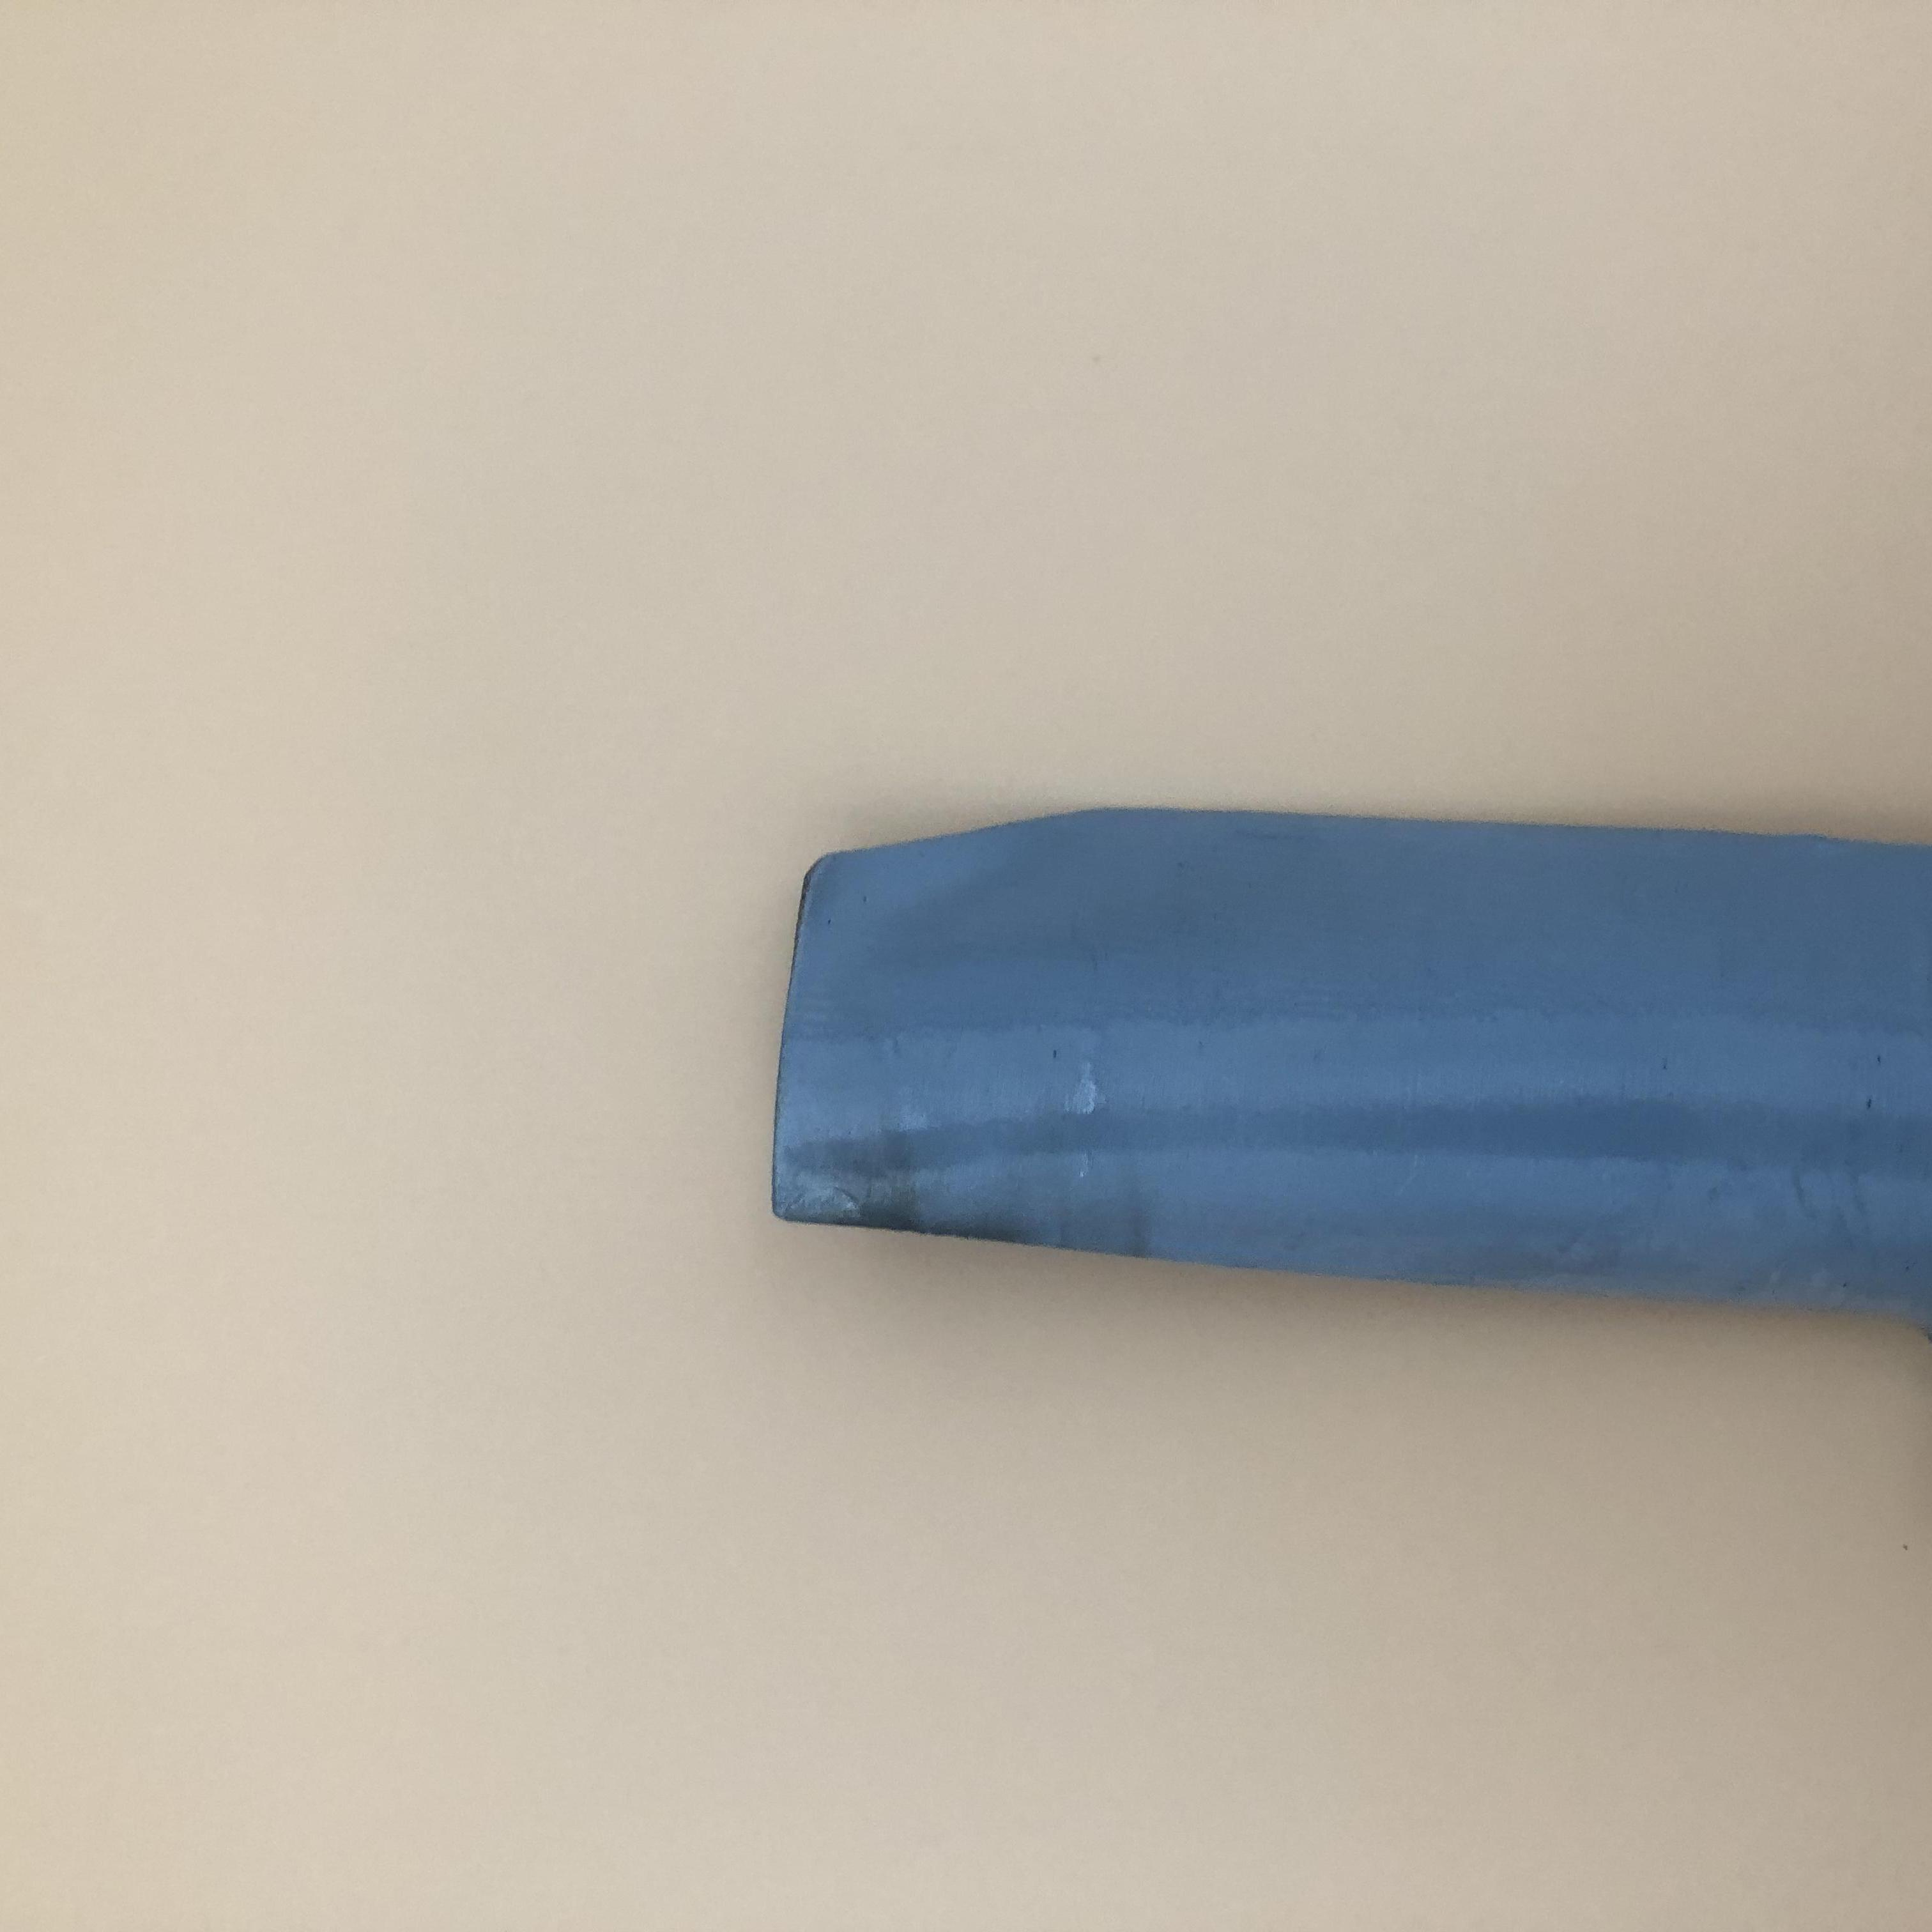ablation: (784, 1145, 1081, 1256)
